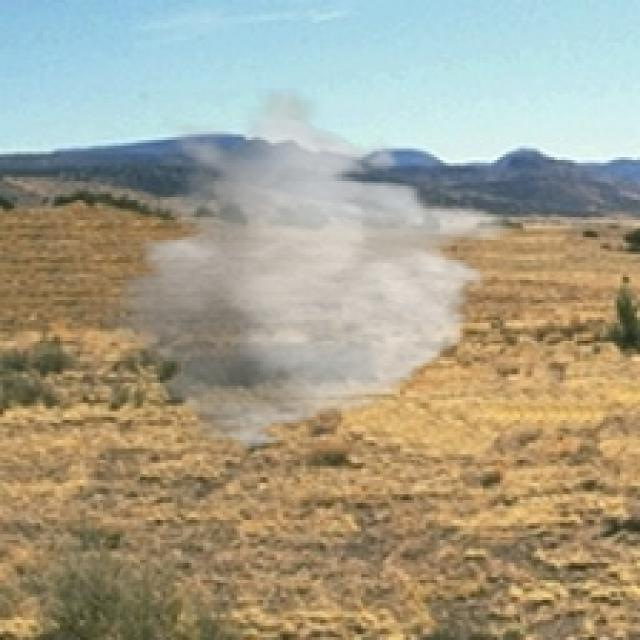smoke: (92, 89, 514, 454)
